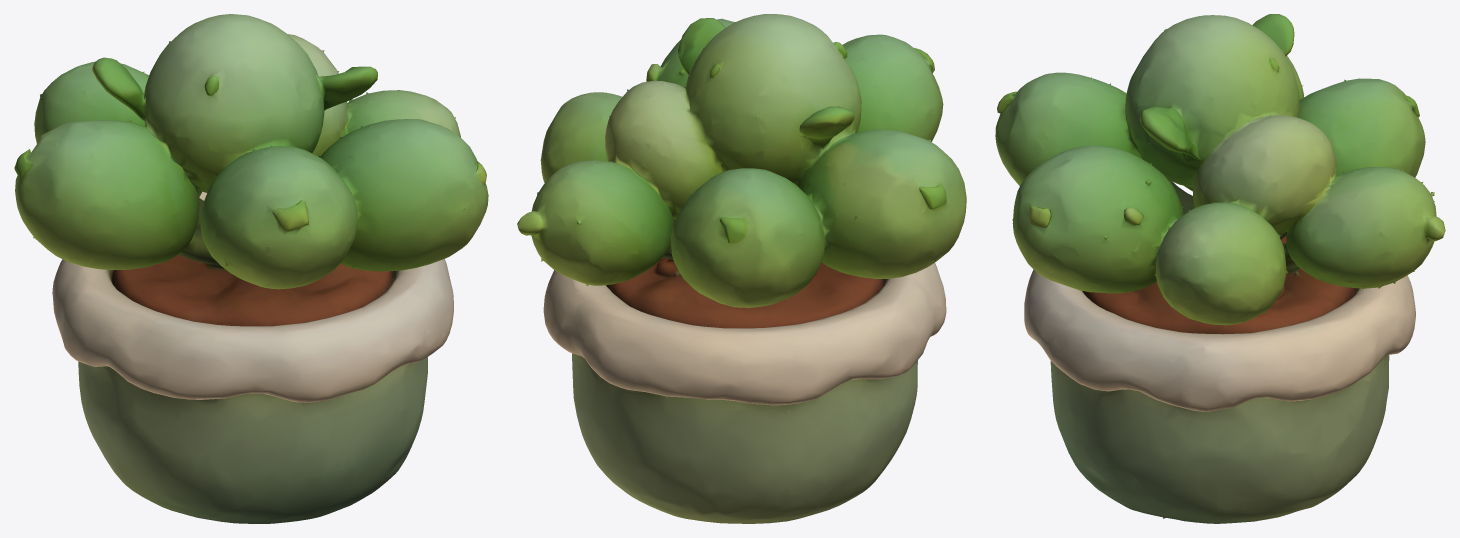
Rendered from plant_h3.glb.
3 views of the same model, side by side, from view 1: azimuth 30°, elevation 25°; view 2: azimuth 150°, elevation 25°; view 3: azimuth 270°, elevation 25° (orthographic). The views are drawn at different scales.
Visible parts, largest first — view 1: tripo_node_c8bf3e8d-2a30-4bd5-8e77-0eee59569ae0; view 2: tripo_node_c8bf3e8d-2a30-4bd5-8e77-0eee59569ae0; view 3: tripo_node_c8bf3e8d-2a30-4bd5-8e77-0eee59569ae0.
Boxes of the visible parts, x1,y1,x2,y2 form: tripo_node_c8bf3e8d-2a30-4bd5-8e77-0eee59569ae0: (14,14,488,523); tripo_node_c8bf3e8d-2a30-4bd5-8e77-0eee59569ae0: (517,14,966,523); tripo_node_c8bf3e8d-2a30-4bd5-8e77-0eee59569ae0: (995,14,1445,523).
Size of the model in its own units: 0.9577 by 1 by 0.9253.
Materials: 1 (1 with a texture image).
